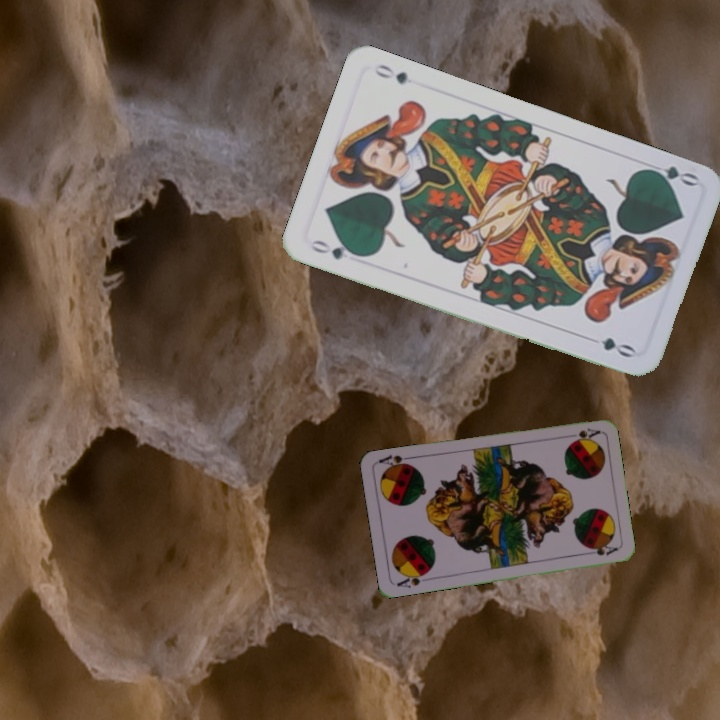GO: (640, 161, 700, 189), (307, 235, 364, 262)
SA: (393, 568, 431, 591), (568, 424, 602, 444)
